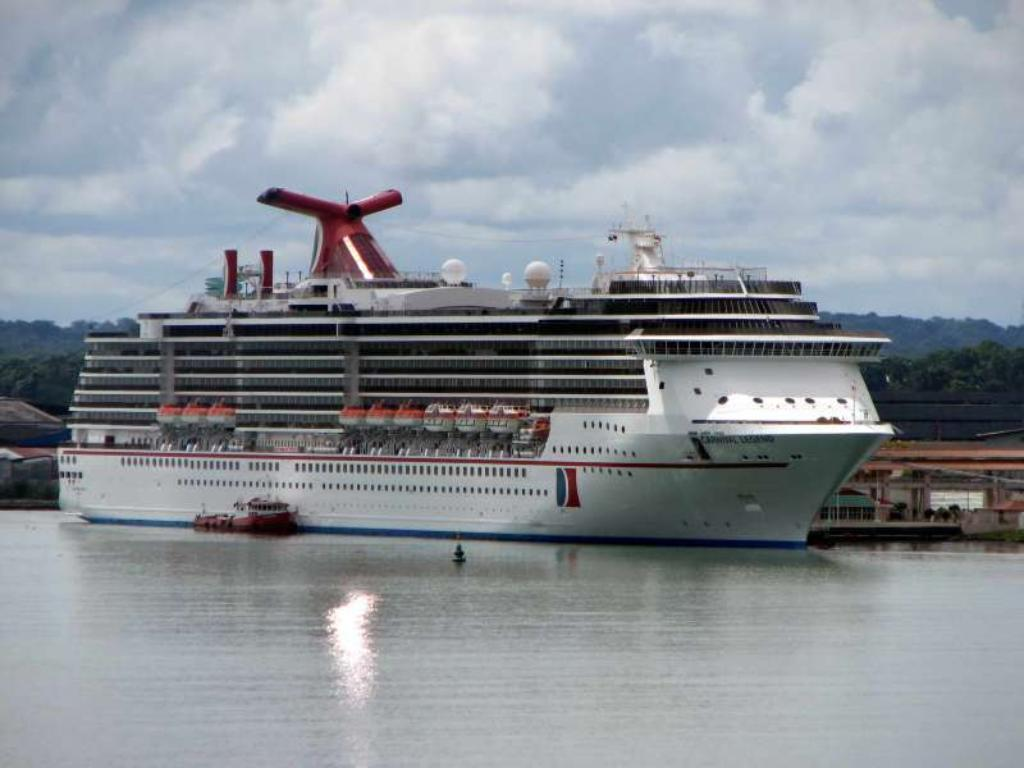PassengerShip: (44, 183, 918, 541)
